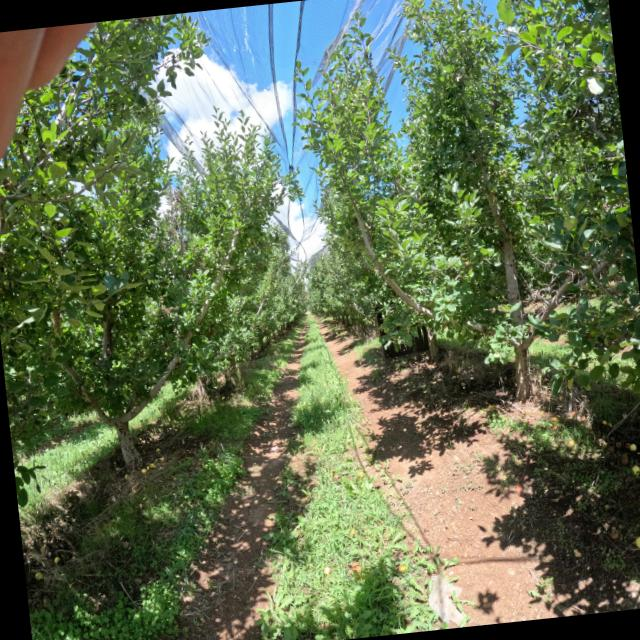-FireBlight-: (161, 189, 184, 239), (51, 304, 62, 335), (159, 302, 180, 315)
